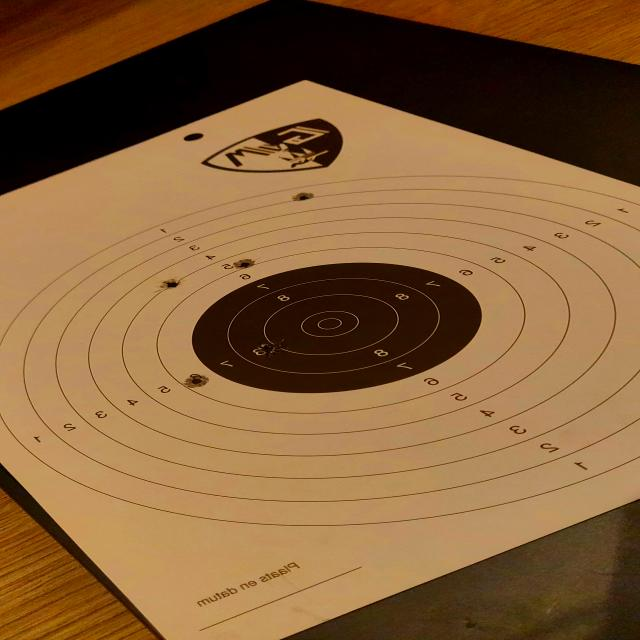2: (290, 192, 315, 202)
5: (154, 277, 182, 292)
6: (180, 374, 209, 388), (232, 258, 255, 270)
9: (253, 339, 289, 357)
Target: (0, 173, 639, 528)
black_contour: (189, 260, 484, 394)
